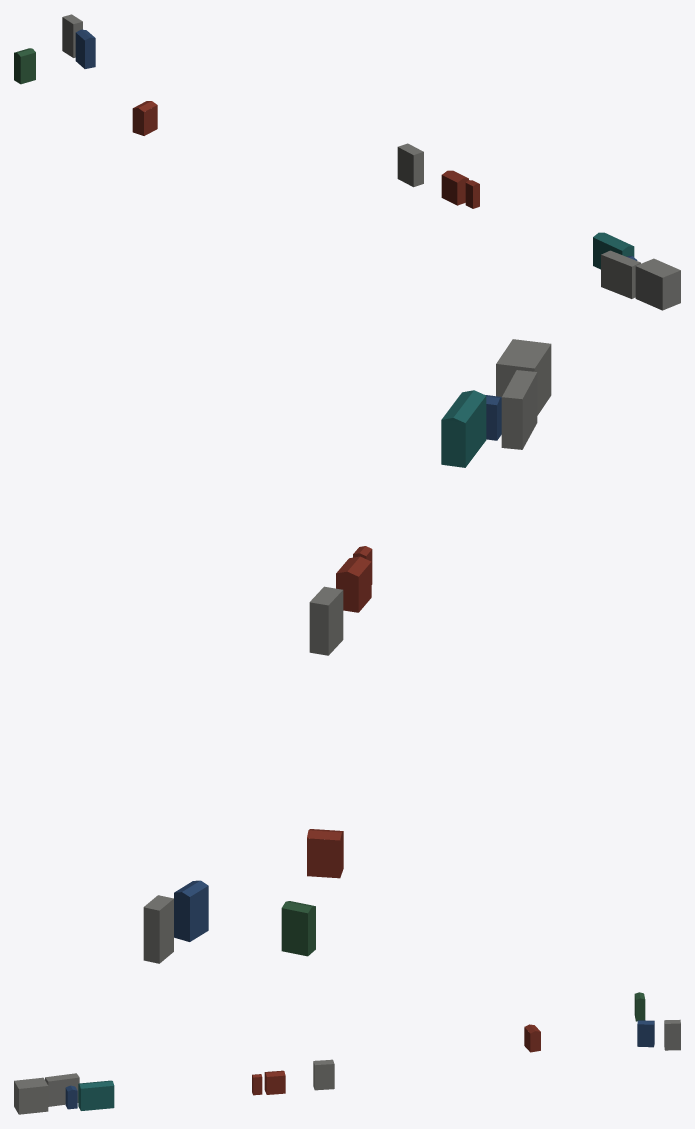
The model's file is near-15-27351-14881.6c096318.glb.
3 views of the same model, one above another, from view 1: azimuth 30°, elevation 25°; view 2: azimuth 150°, elevation 25°; view 3: azimuth 270°, elevation 25° (orthographic). The views are drawn at different scales.
Size of the model in its own units: 193 by 34.21 by 532.
